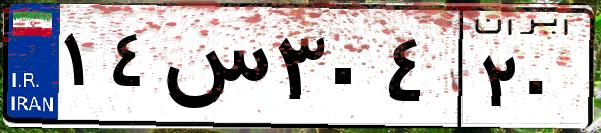0: (330, 28, 385, 110), (525, 38, 570, 115)
1: (57, 26, 110, 100)
2: (475, 38, 525, 113)
3: (270, 28, 330, 110)
4: (385, 28, 445, 110), (110, 28, 158, 98)
س: (158, 20, 270, 120)
